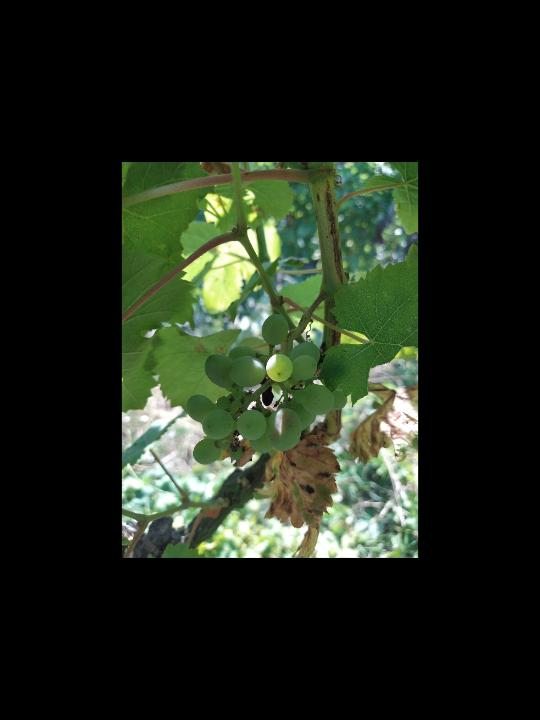grape: (186, 313, 349, 466)
